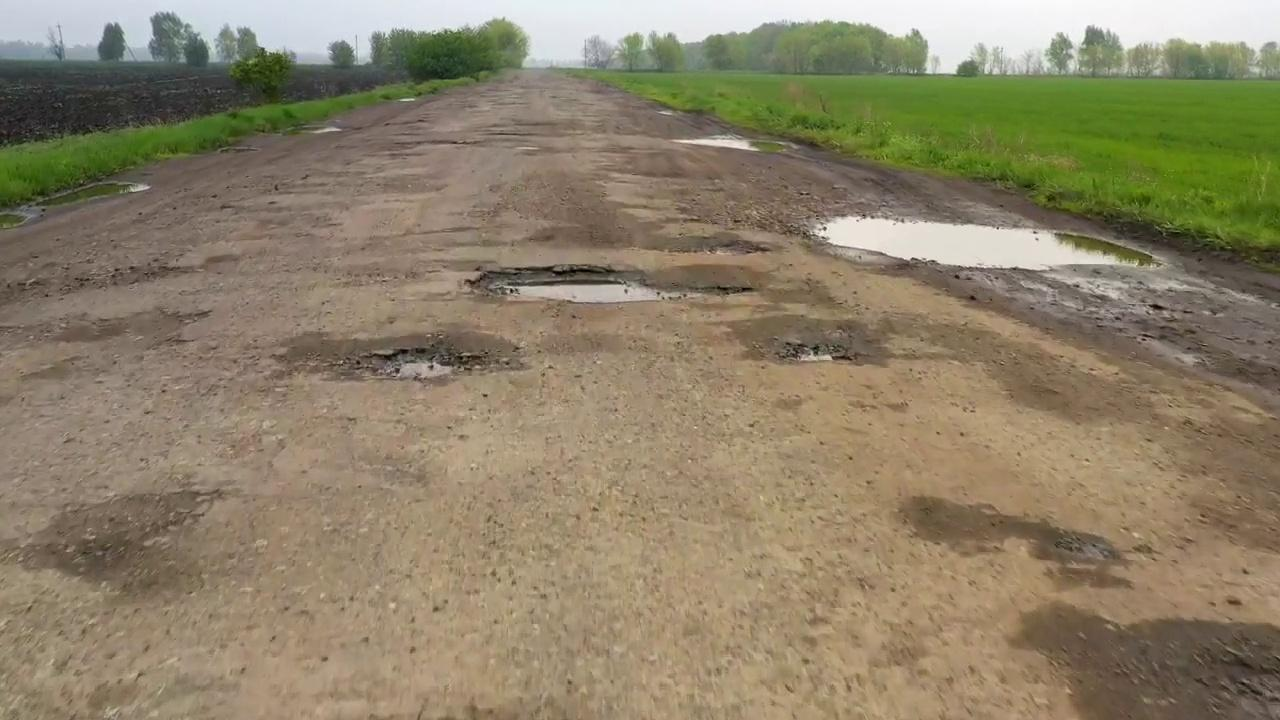bache: (815, 216, 1157, 270), (899, 496, 1122, 566), (276, 331, 523, 380), (467, 264, 754, 303), (655, 232, 770, 255), (776, 341, 857, 361)
